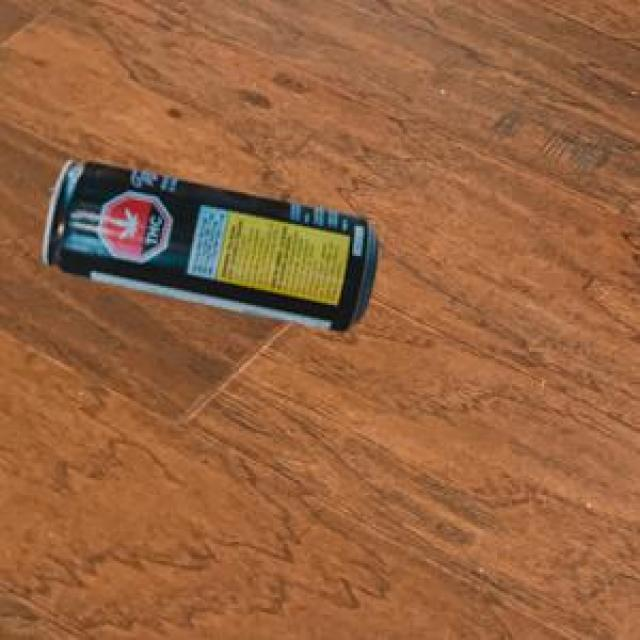logam: (39, 157, 374, 330)
